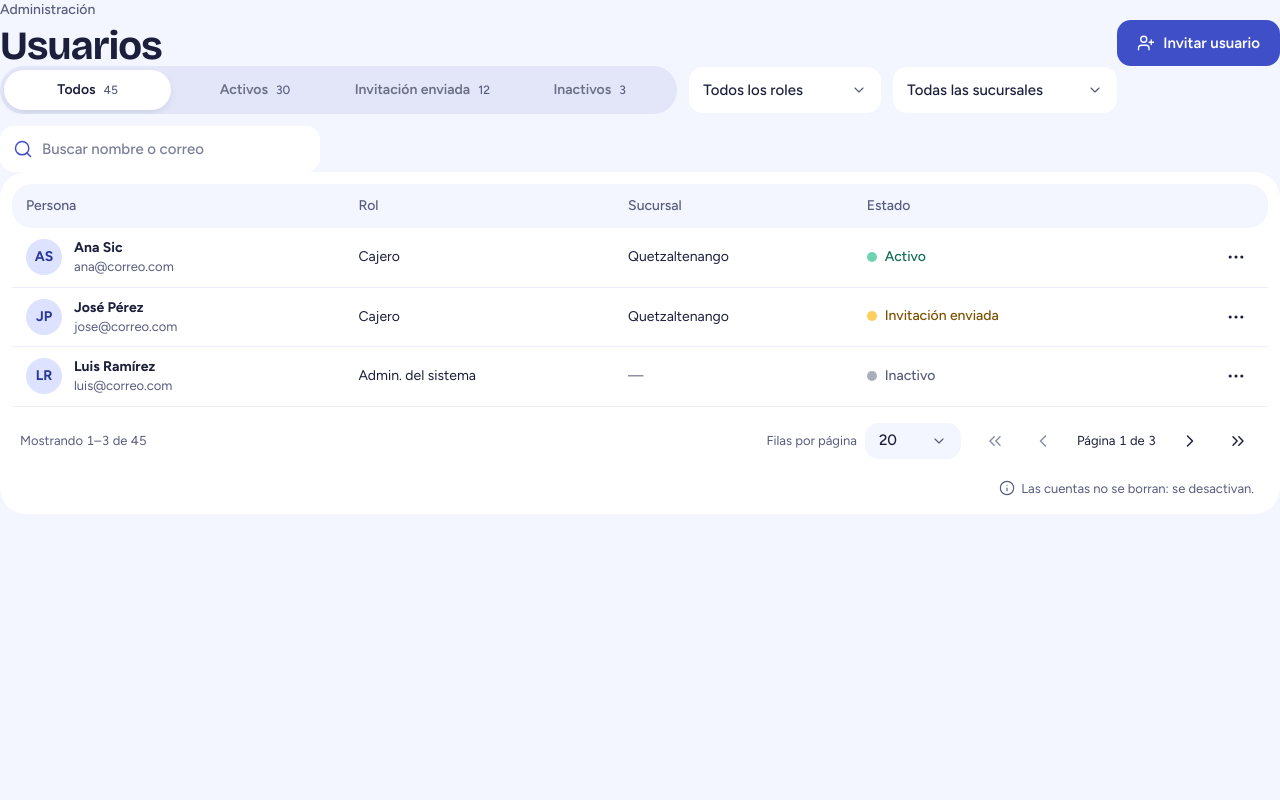
Scenario: UsersScreen › opens the editor with the person selected
Click the button named "Acciones de Ana Sic". click: (1236, 257)
box: top-left (1218, 239), bottom-right (1254, 275)
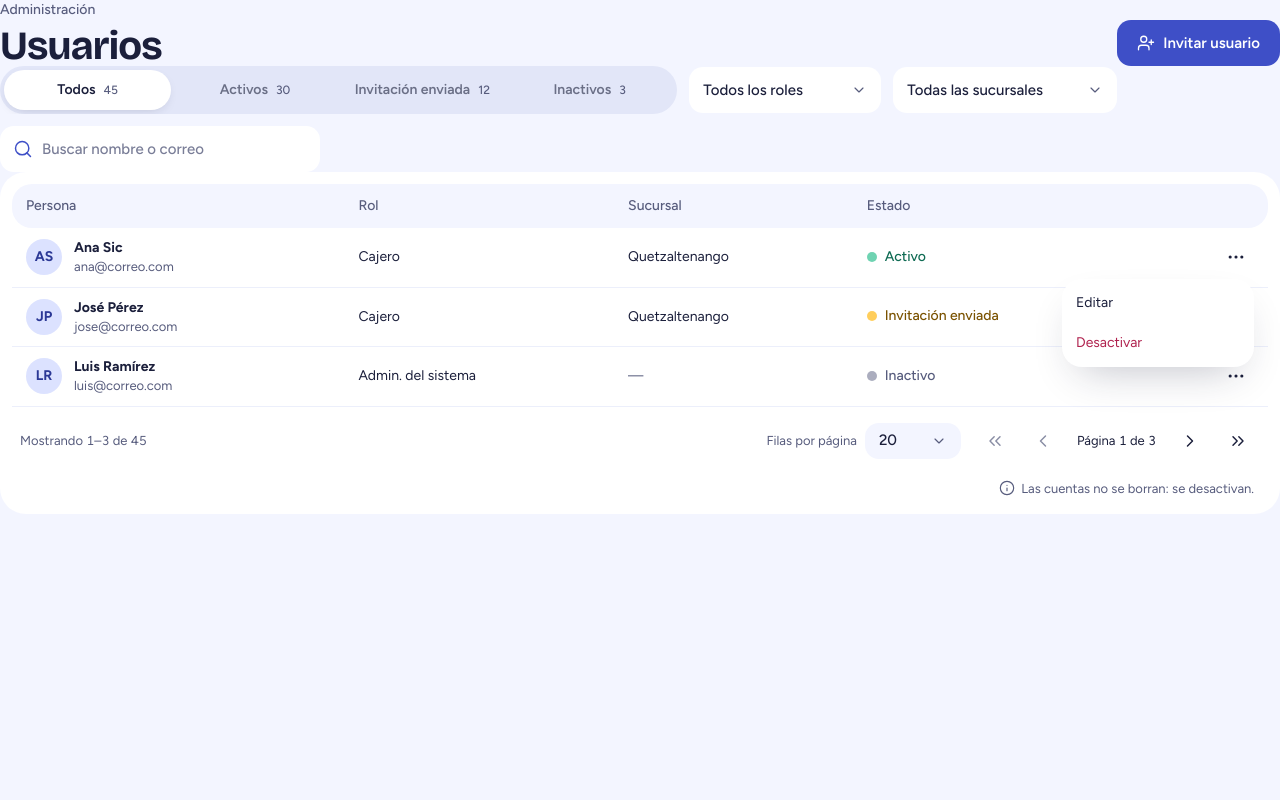
Click the menu item "Editar". click: (1094, 302)
box: top-left (1076, 294), bottom-right (1113, 311)
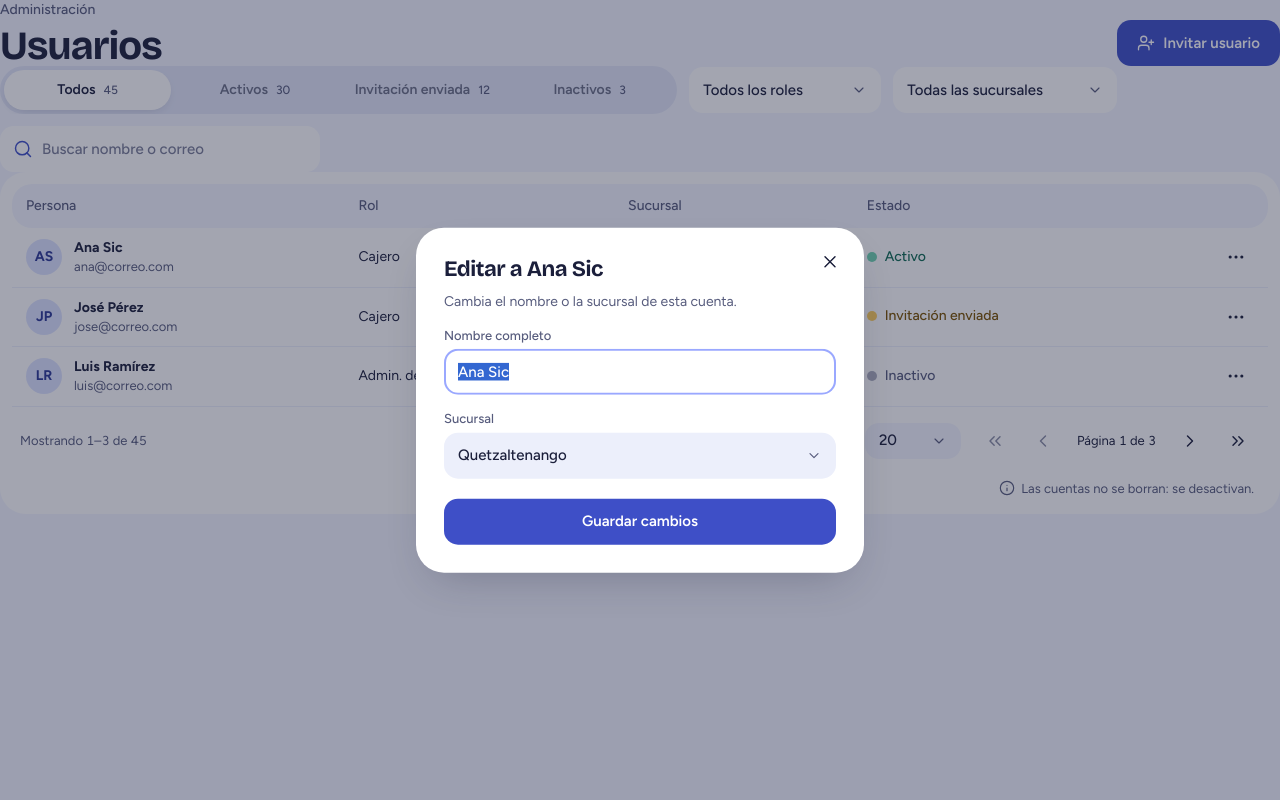
Now the dialog "Editar a Ana Sic" is shown, box top-left (416, 228), bottom-right (864, 572)
